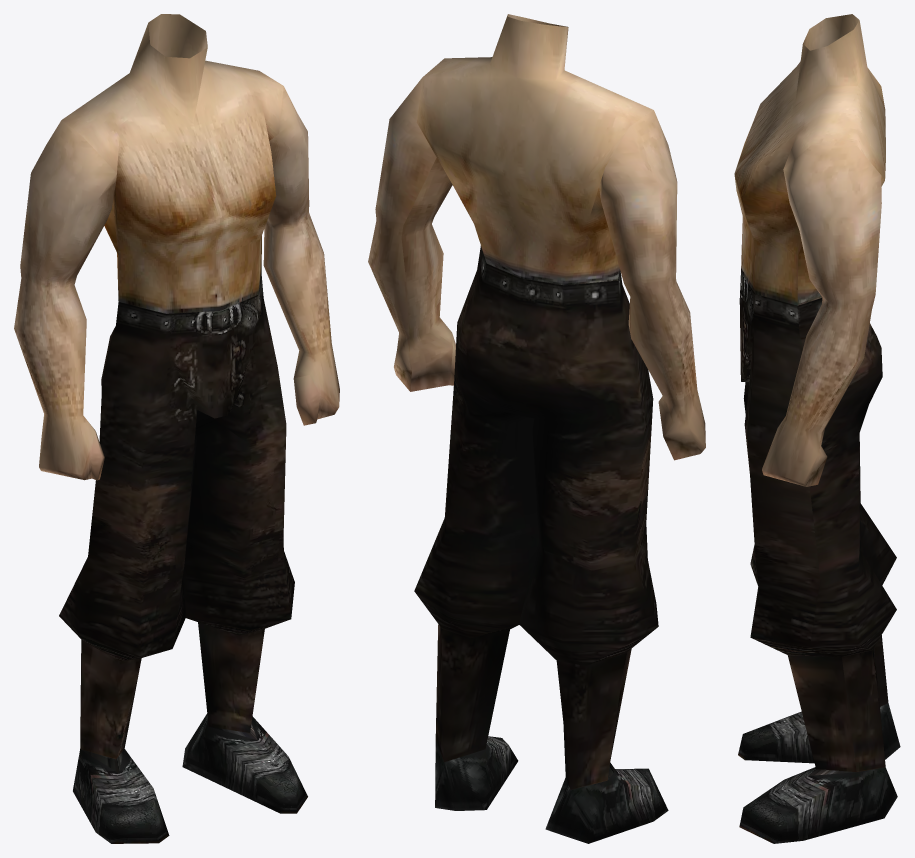
Rendered from KM_PANTS_05.glb.
The picture shows the model from 3 angles, left to right: view 1: azimuth 30°, elevation 25°; view 2: azimuth 150°, elevation 25°; view 3: azimuth 270°, elevation 25°; orthographic projection. The views are drawn at different scales.
Visible parts, largest first — view 1: KM_PANTS_05; view 2: KM_PANTS_05; view 3: KM_PANTS_05.
Boxes of the visible parts, box(x1,y1,x2,y2) form: KM_PANTS_05: box(14, 14, 339, 843); KM_PANTS_05: box(368, 14, 705, 843); KM_PANTS_05: box(734, 14, 900, 843).
Bounding box in the file's own units: 0.6879 × 1.69 × 0.3299.
Materials: 2 (2 with a texture image).
